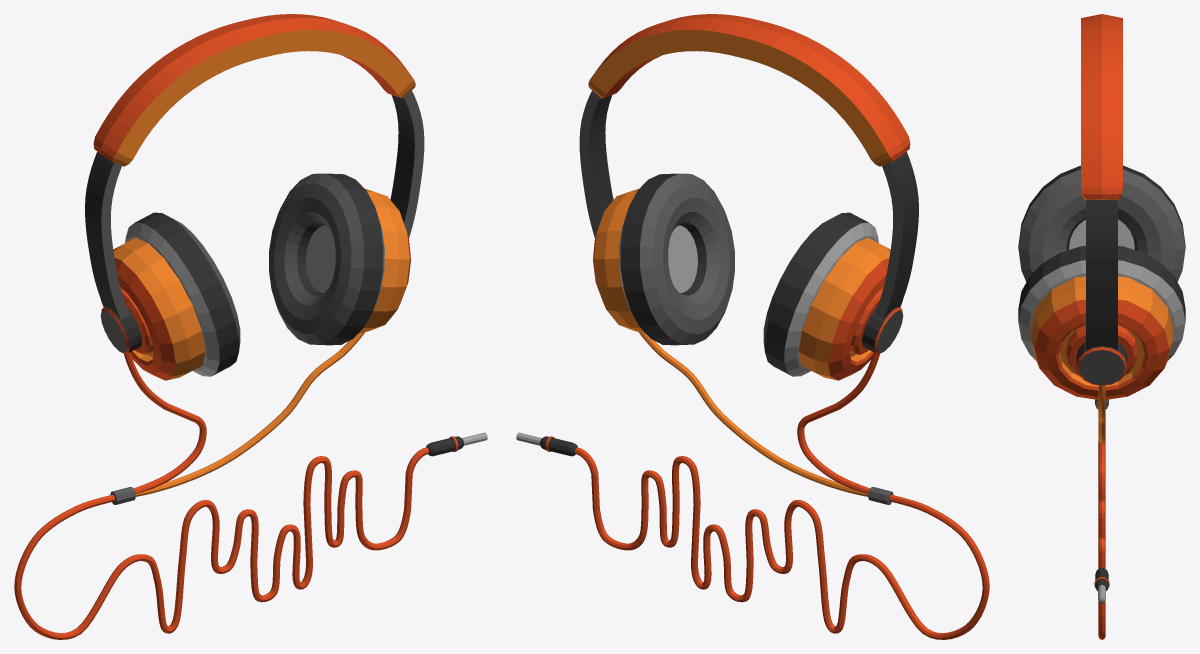
File: headphnes sss.fbx
3 renders of one model, left to right at view 1: azimuth 30°, elevation 25°; view 2: azimuth 150°, elevation 25°; view 3: azimuth 270°, elevation 25°, orthographic. The views are drawn at different scales.
Visible parts, largest first — view 1: Object002; view 2: Object002; view 3: Object002.
Part boxes in pixels (x1,y1,x2,y2): Object002: (14,14,487,639); Object002: (516,14,989,639); Object002: (1018,14,1185,639).
Bounding box in the file's own units: 10.26 × 12.21 × 3.24.
